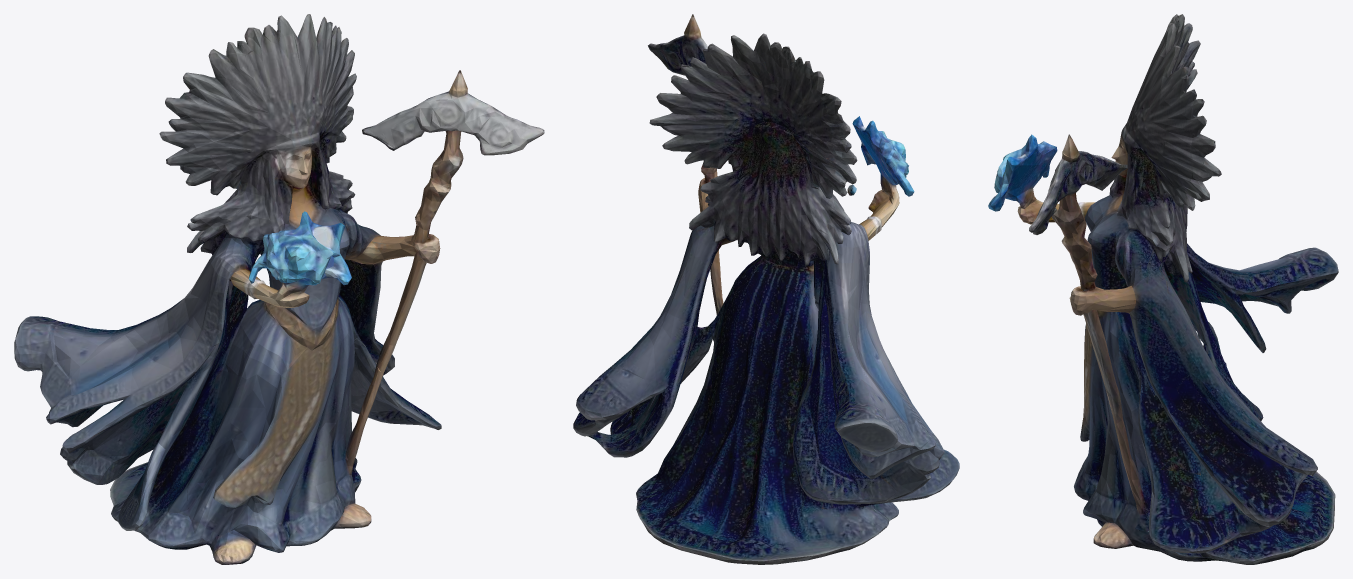
File: stormcaller.glb
The picture shows the model from 3 angles, left to right: view 1: azimuth 30°, elevation 25°; view 2: azimuth 150°, elevation 25°; view 3: azimuth 270°, elevation 25°; orthographic projection. The views are drawn at different scales.
Parts seen in each view (by area): view 1: world; view 2: world; view 3: world.
Boxes of the visible parts, x1,y1,x2,y2 form: world: [14, 14, 544, 564]; world: [573, 14, 959, 564]; world: [988, 14, 1338, 564].
Size of the model in its own units: 0.8472 by 1 by 0.6343.
Materials: 1 (1 with a texture image).
